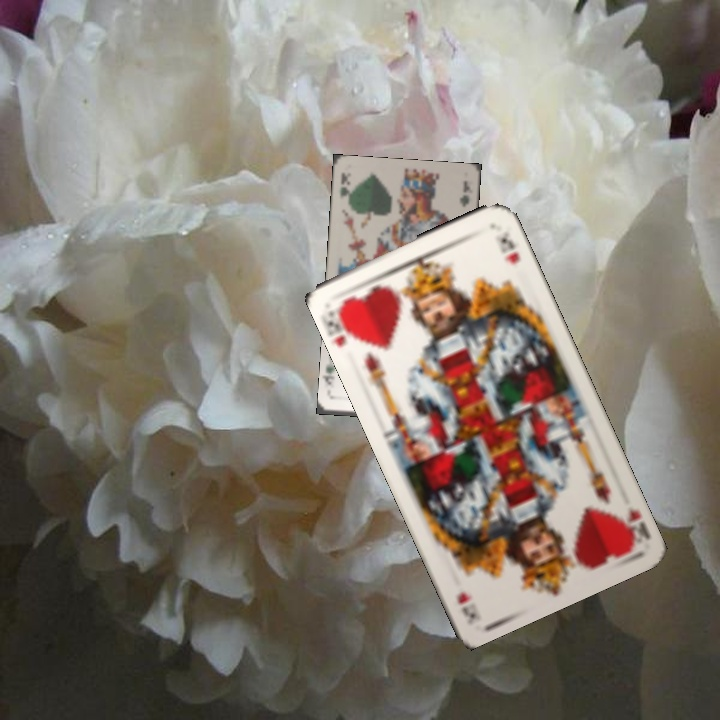GK: (336, 170, 354, 198)
HK: (612, 502, 653, 548), (323, 301, 359, 350)
